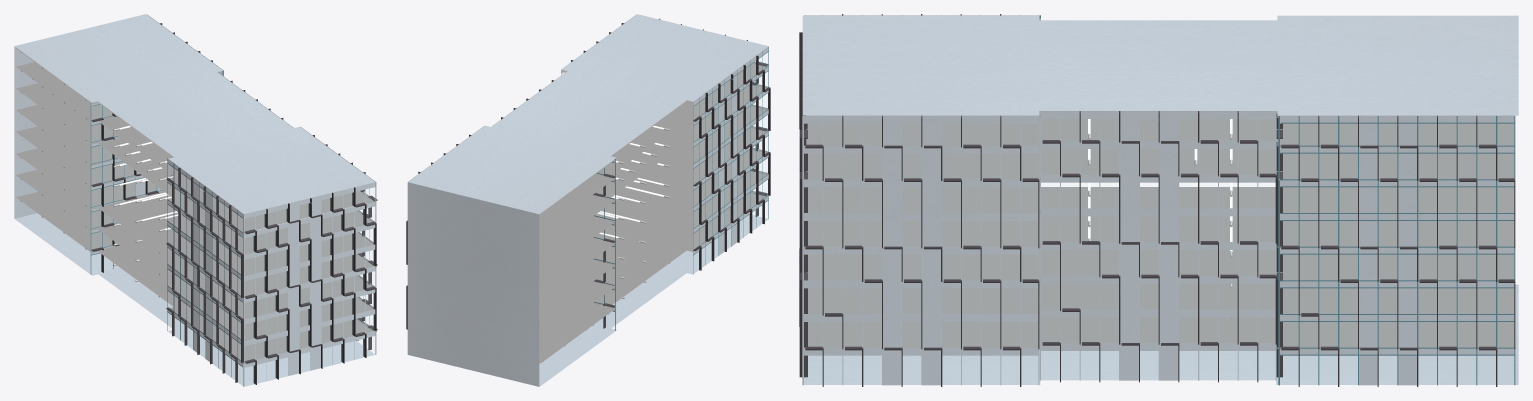
File: edificio.glb
The picture shows the model from 3 angles, left to right: view 1: azimuth 30°, elevation 25°; view 2: azimuth 150°, elevation 25°; view 3: azimuth 270°, elevation 25°; orthographic projection. The views are drawn at different scales.
Parts seen in each view (by area): view 1: Cube, Cube.021, Plane.007, Cube.002, Plane.006, Plane.005, Plane.004, Plane.008, Plane.009, Cube.012, Cube.005, Plane.002 (+14 smaller); view 2: Cube, Cube.021, Cube.012, Plane.007, Plane.006, Plane.011, Plane.009, Plane.005, Plane.008, Plane.004, Plane.002, Cube.013 (+7 smaller); view 3: Cube, Cube.021, Plane.011, Cube.019, Plane.007, Plane.004, Cube.009, Cube.025, Plane.005, Plane.008, Plane.006, Plane.009 (+16 smaller).
Boxes of the visible parts, x1,y1,x2,y2 form: Cube: [14, 14, 375, 386]; Cube.021: [98, 72, 293, 329]; Plane.007: [16, 148, 371, 319]; Cube.002: [244, 187, 376, 384]; Plane.006: [16, 126, 373, 297]; Plane.005: [16, 105, 373, 275]; Plane.004: [16, 83, 371, 254]; Plane.008: [16, 169, 373, 340]; Plane.009: [16, 191, 372, 363]; Cube.012: [166, 167, 243, 382]; Cube.005: [244, 182, 375, 366]; Plane.002: [16, 62, 373, 233]; Cube: [407, 14, 768, 386]; Cube.021: [492, 71, 686, 328]; Cube.012: [693, 55, 770, 270]; Plane.007: [539, 150, 765, 320]; Plane.006: [539, 127, 766, 298]; Plane.011: [595, 191, 685, 262]; Plane.009: [539, 193, 765, 363]; Plane.005: [539, 106, 766, 276]; Plane.008: [539, 171, 766, 341]; Plane.004: [539, 85, 765, 254]; Plane.002: [539, 63, 766, 233]; Cube.013: [693, 47, 768, 274]; Cube: [802, 15, 1518, 384]; Cube.021: [1039, 20, 1277, 380]; Plane.011: [1041, 187, 1276, 275]; Cube.019: [1120, 111, 1178, 380]; Plane.007: [806, 248, 1514, 281]; Plane.004: [806, 146, 1514, 180]; Cube.009: [883, 116, 940, 385]; Cube.025: [1359, 116, 1416, 385]; Plane.005: [808, 181, 1514, 213]; Plane.008: [808, 282, 1514, 314]; Plane.006: [808, 214, 1514, 247]; Plane.009: [808, 315, 1514, 348].
Size of the model in its own units: 4.34 by 5.25 by 12.71.
Materials: 8 (2 with a texture image).
